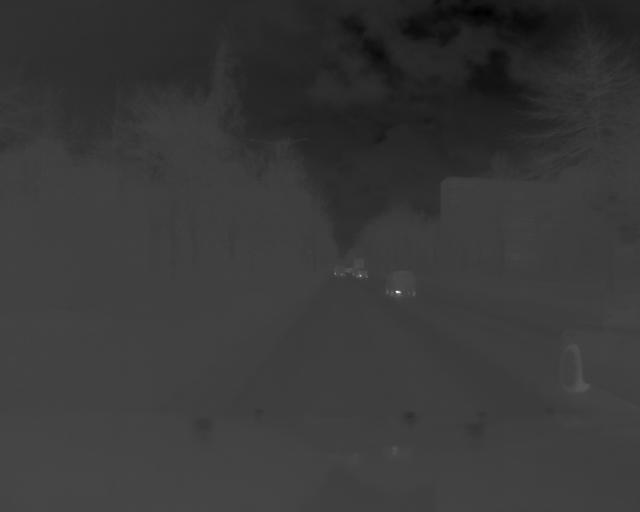car: (382, 265, 420, 302)
